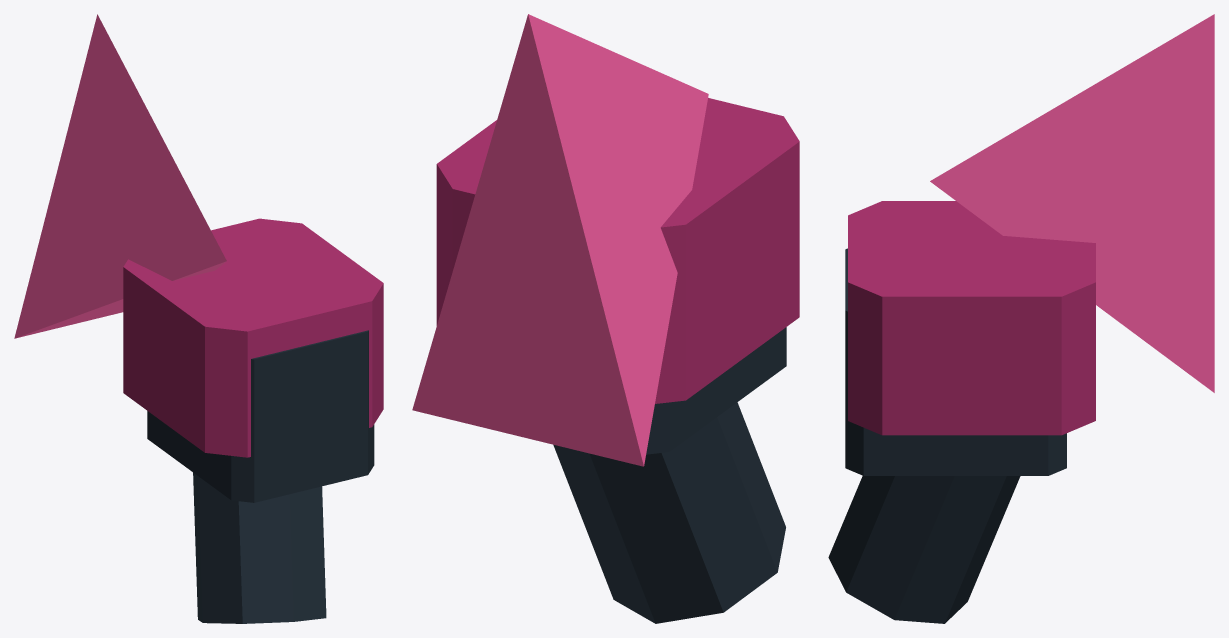
Rendered from enemy_striker_lod_upper_arm_l.obj.
3 views of the same model, side by side, from view 1: azimuth 30°, elevation 25°; view 2: azimuth 150°, elevation 25°; view 3: azimuth 270°, elevation 25° (orthographic). The views are drawn at different scales.
Size of the model in its own units: 0.525 by 1.21 by 0.7321.
